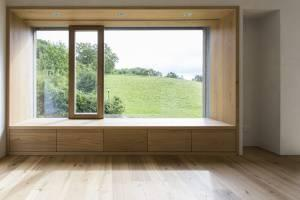window: (9, 10, 233, 124)
